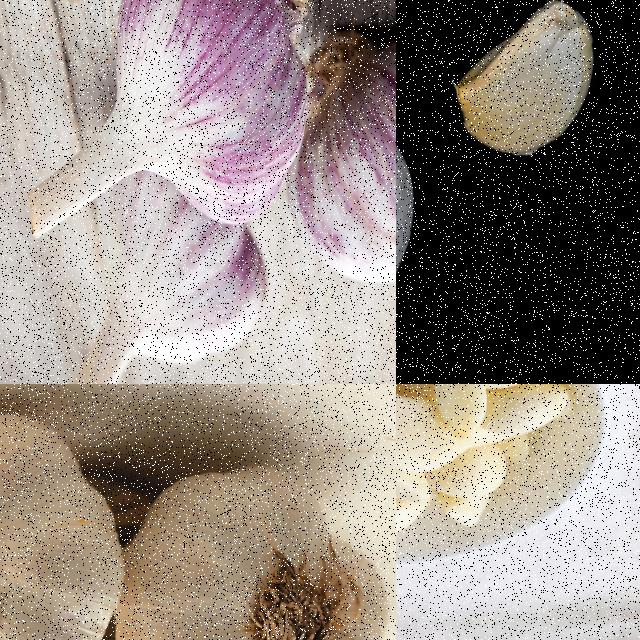garlic: (23, 0, 313, 243), (110, 463, 386, 639), (55, 155, 266, 383), (276, 12, 395, 359), (0, 402, 129, 639), (396, 384, 567, 537), (447, 0, 595, 160)
